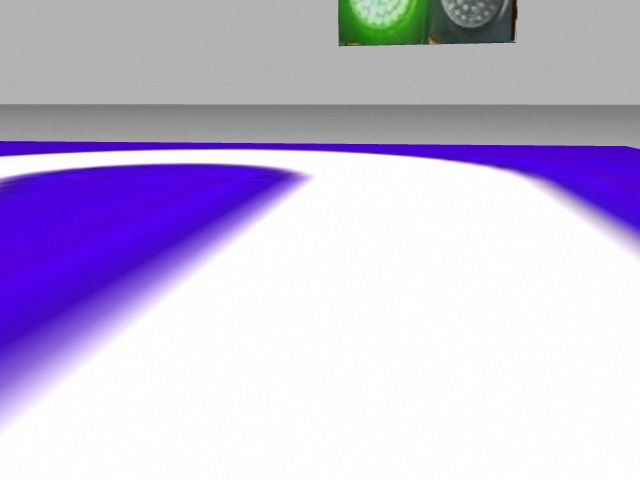green: (338, 1, 428, 43)
